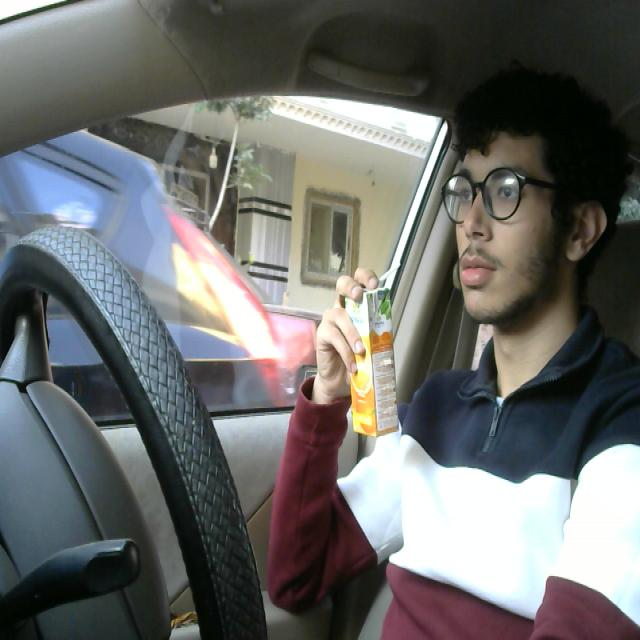drinking: (342, 255, 403, 443)
